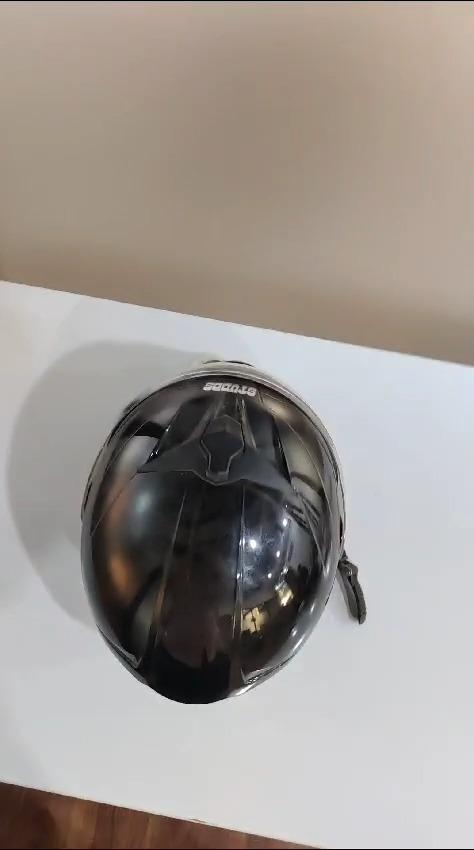Helmet: (82, 362, 365, 703)
